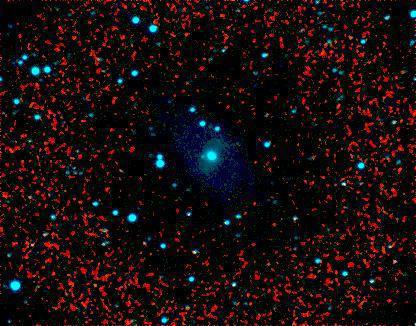star: (188, 143, 218, 173)
